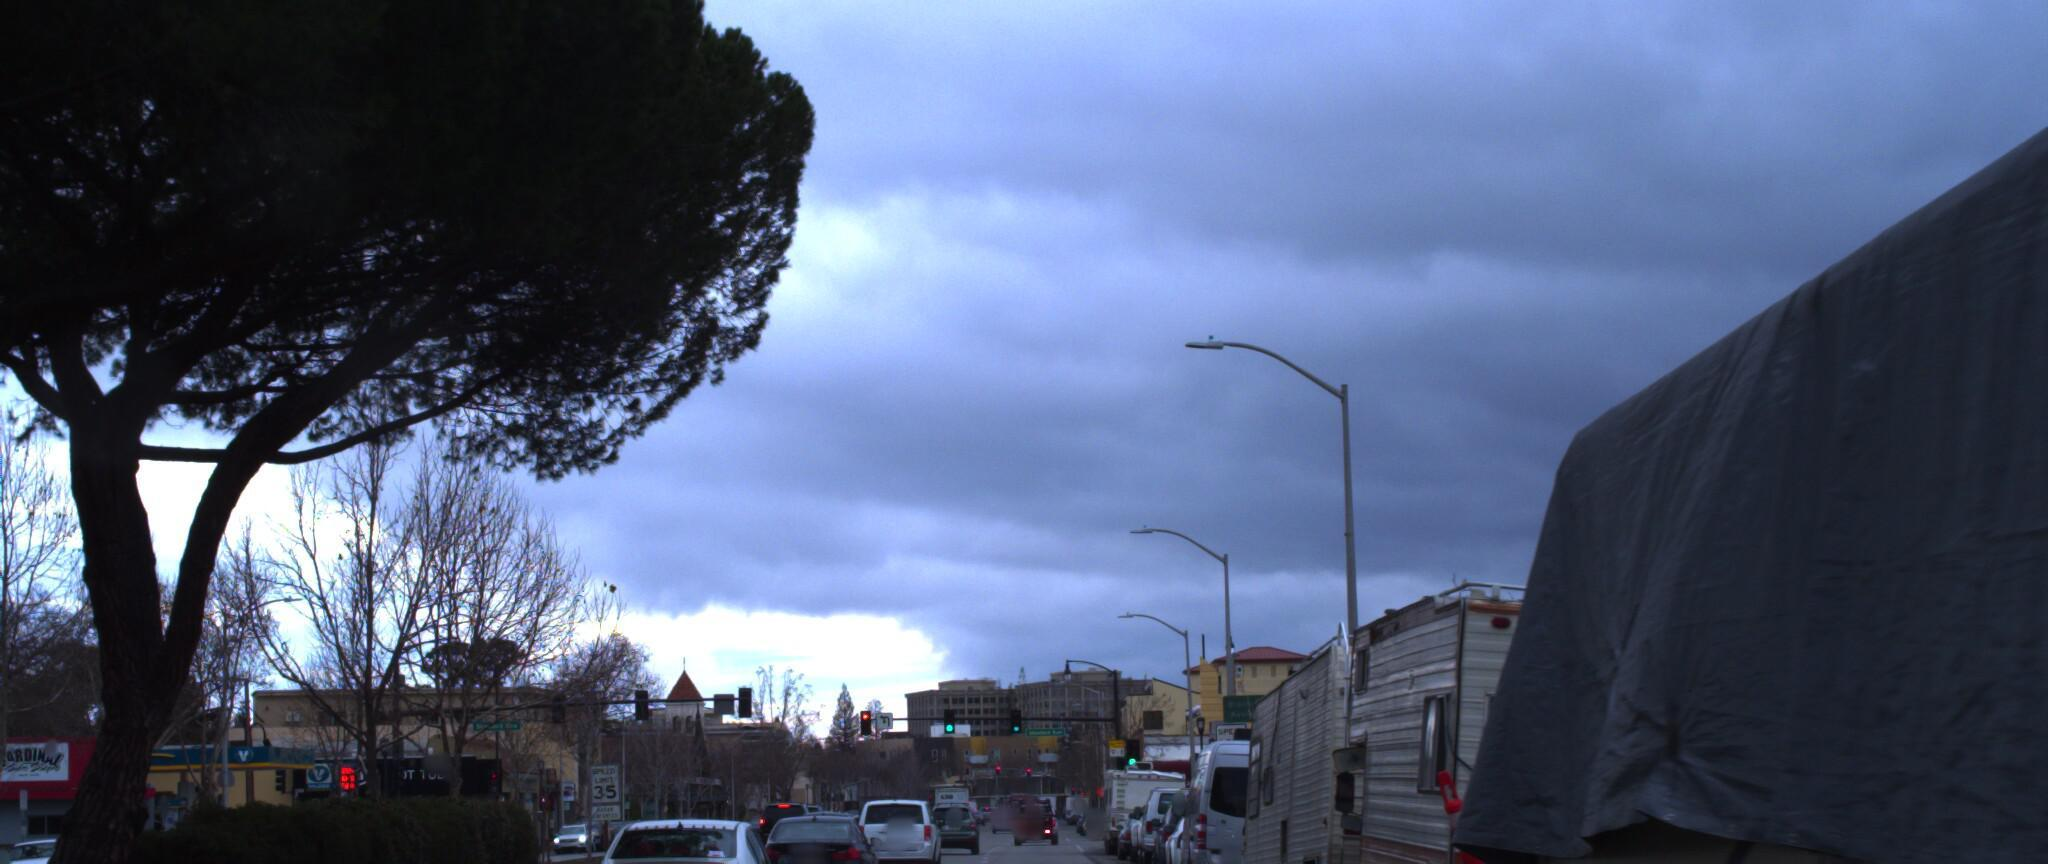car: (1168, 736, 1327, 864), (567, 796, 788, 864), (758, 801, 886, 864), (857, 787, 938, 854), (0, 827, 97, 864)
other_vehicle: (1490, 0, 2048, 864), (1328, 579, 1917, 864), (1241, 619, 1665, 864)
